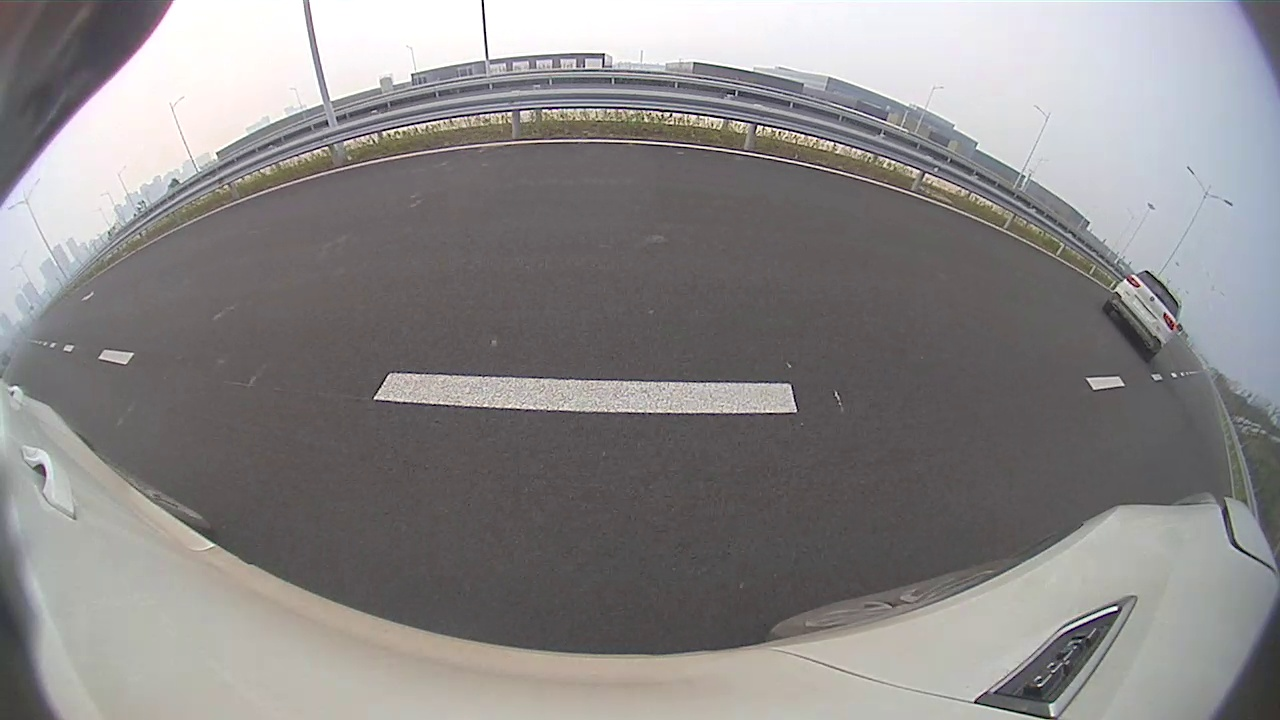car: (715, 150, 790, 200)
rear: (730, 177, 742, 197)
